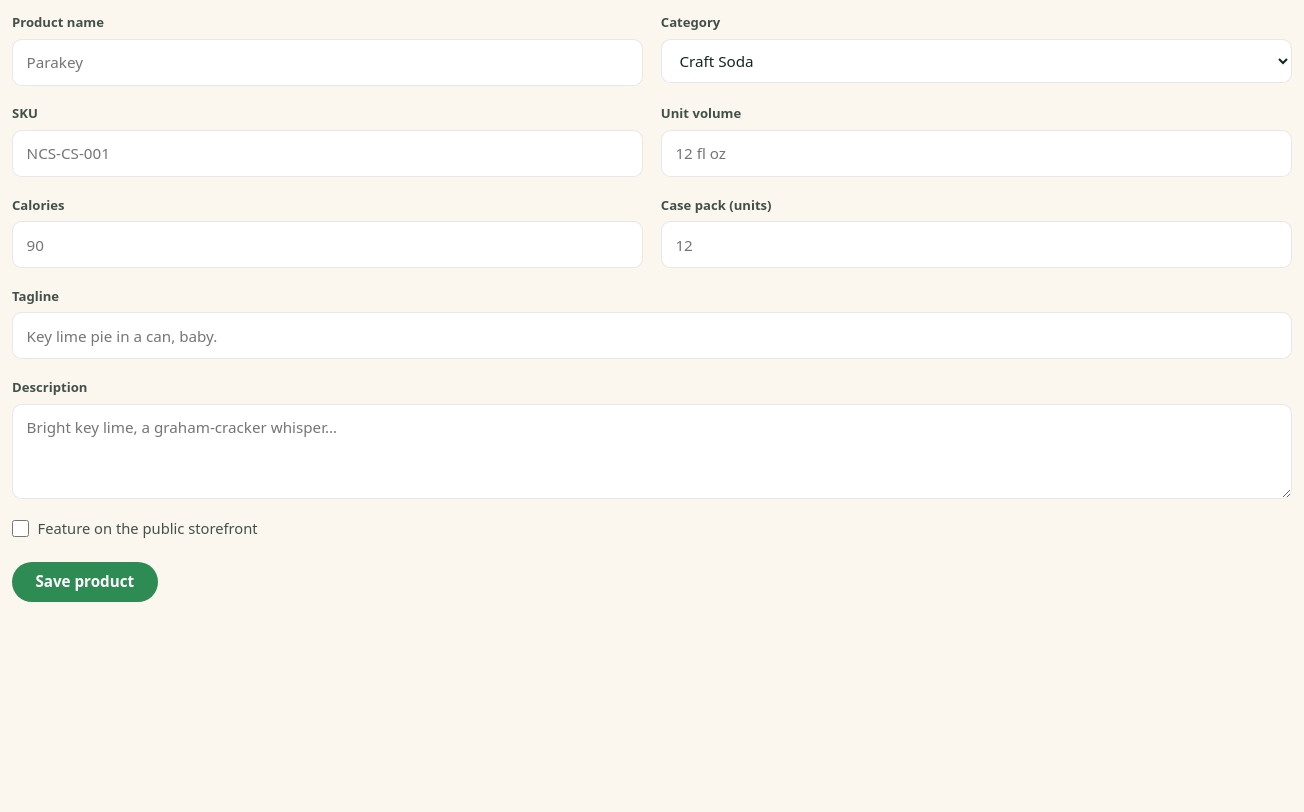
Test: ProductForm (demo-mode submit) › shows inline errors and no demo notice on invalid submit
Click the button "Save product" at (85, 582), box 12,562 -> 158,602
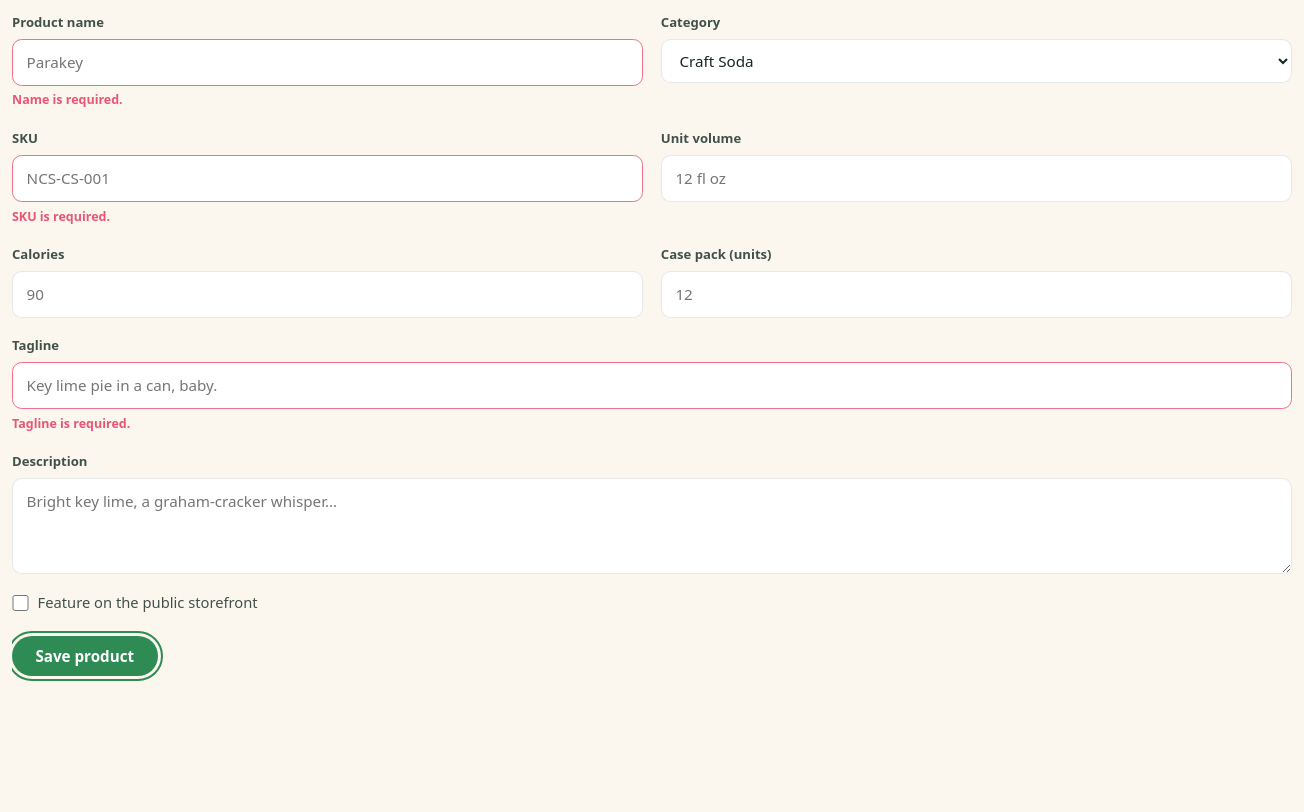
Expected: the text "Name is required." is shown, 12,92 -> 123,108
Expected: the text "SKU is required." is shown, 12,208 -> 110,224
